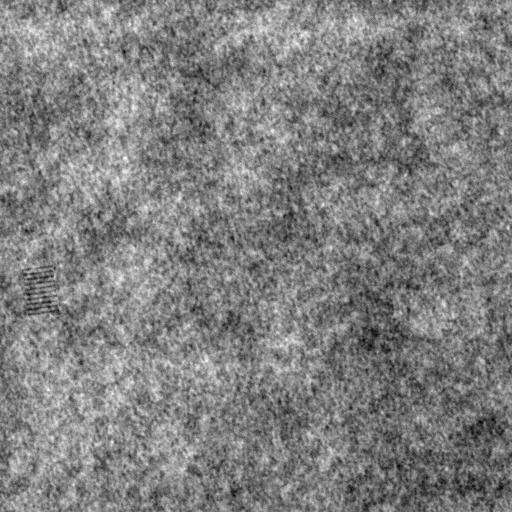impact: (16, 262, 62, 320)
